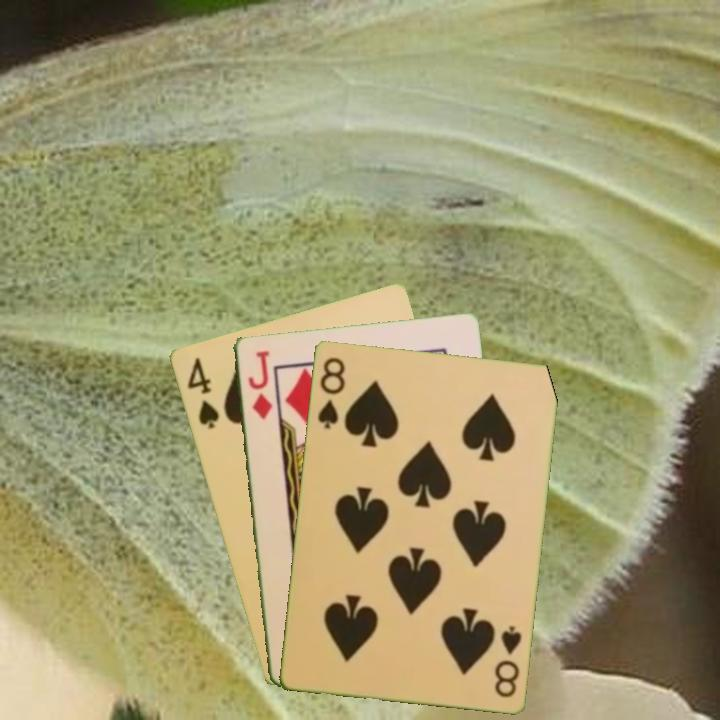4s: (183, 353, 222, 432)
8s: (313, 353, 348, 432), (491, 621, 524, 700)
Jd: (244, 347, 275, 422)
